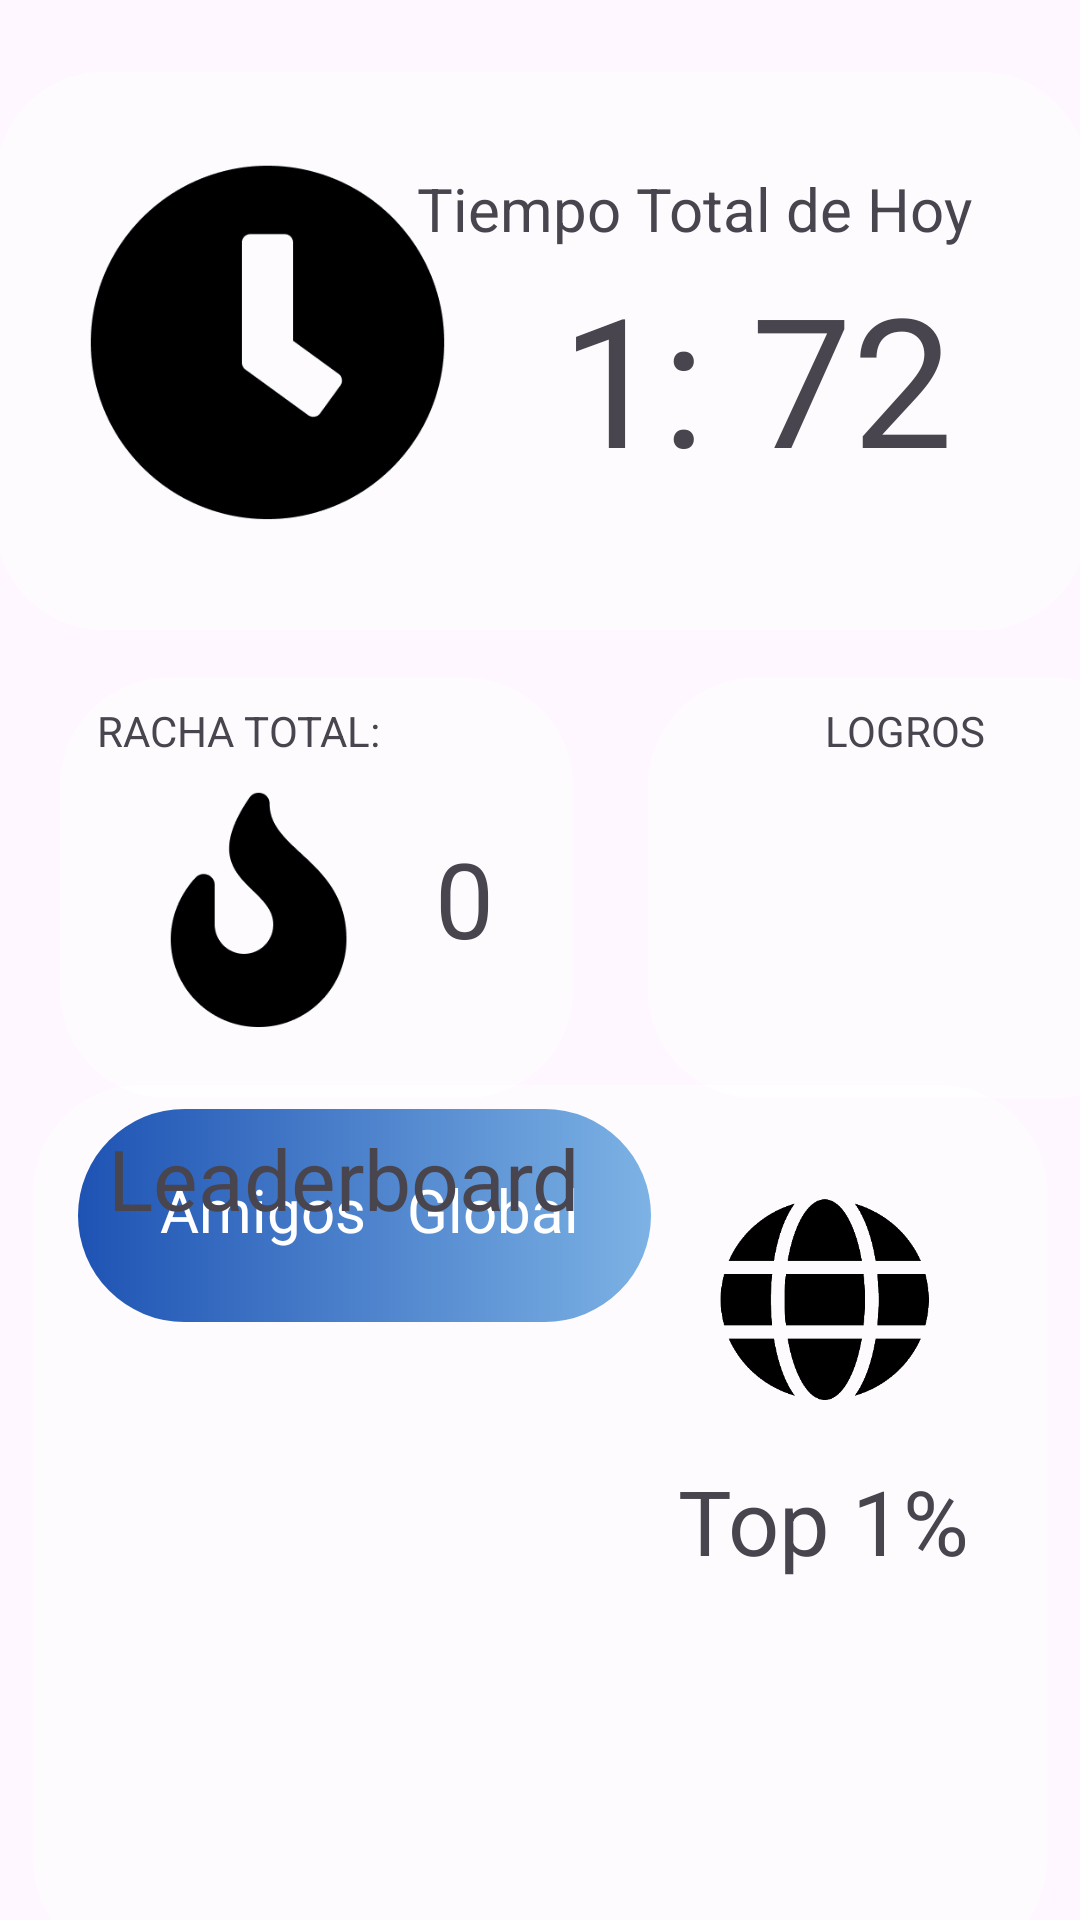

Icon click points for this 1080px x 1920px phone screenshot, format [x,y]:
globe: [824,1299]
